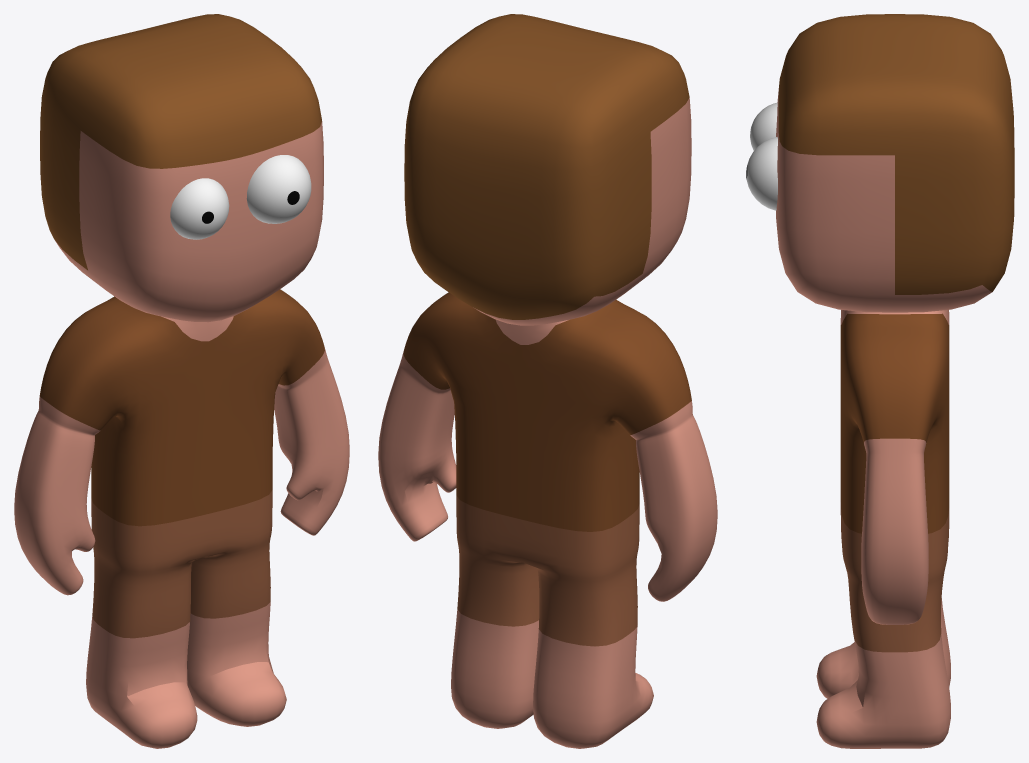
Rendered from Player.fbx.
3 views of the same model, side by side, from view 1: azimuth 30°, elevation 25°; view 2: azimuth 150°, elevation 25°; view 3: azimuth 270°, elevation 25° (orthographic).
Visible parts, largest first — view 1: Cos Referencia.018, Cap Referencia.019, Sphere.006, Sphere.007; view 2: Cos Referencia.018, Cap Referencia.019; view 3: Cap Referencia.019, Cos Referencia.018, Sphere.006, Sphere.007.
Boxes of the visible parts, box(x1,y1,x2,y2) form: Cos Referencia.018: box(14, 289, 349, 748); Cap Referencia.019: box(40, 14, 323, 322); Sphere.006: box(246, 155, 311, 223); Sphere.007: box(170, 178, 229, 239); Cos Referencia.018: box(378, 292, 717, 748); Cap Referencia.019: box(404, 14, 691, 325); Cap Referencia.019: box(776, 14, 1014, 312); Cos Referencia.018: box(816, 310, 950, 748); Sphere.006: box(746, 137, 777, 210); Sphere.007: box(750, 103, 777, 150).
Bounding box in the file's own units: 3.06 × 6.16 × 2.22.
